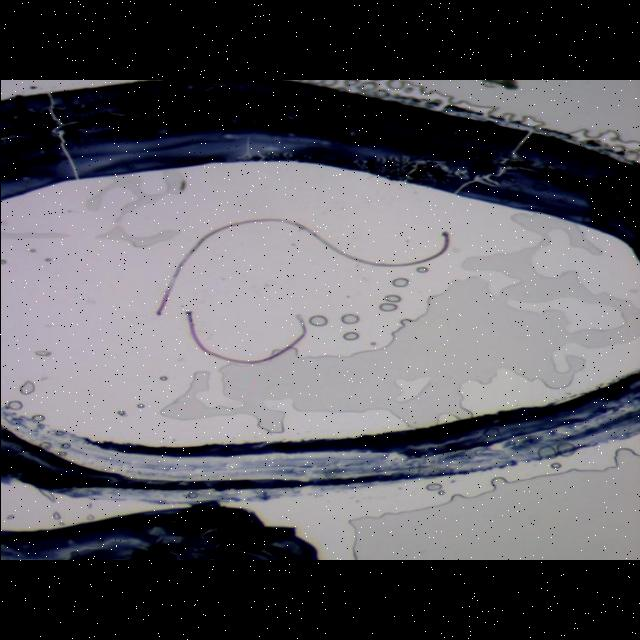Fibre: (150, 212, 468, 316), (178, 306, 316, 368)
